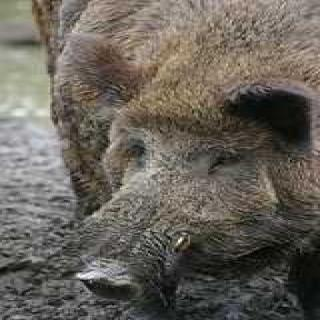Pig: (39, 0, 320, 308)
